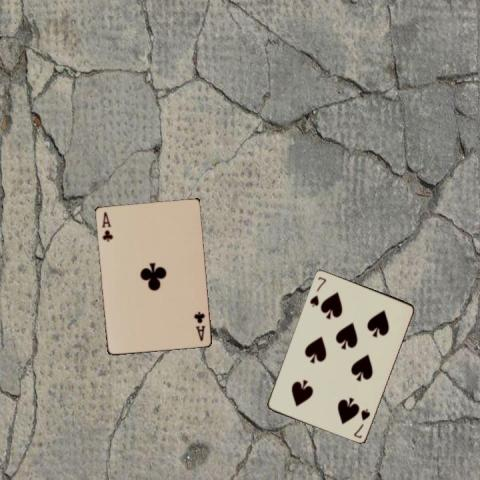7s: (307, 273, 327, 308), (351, 406, 371, 440)
Ac: (191, 309, 206, 342), (99, 208, 113, 243)
